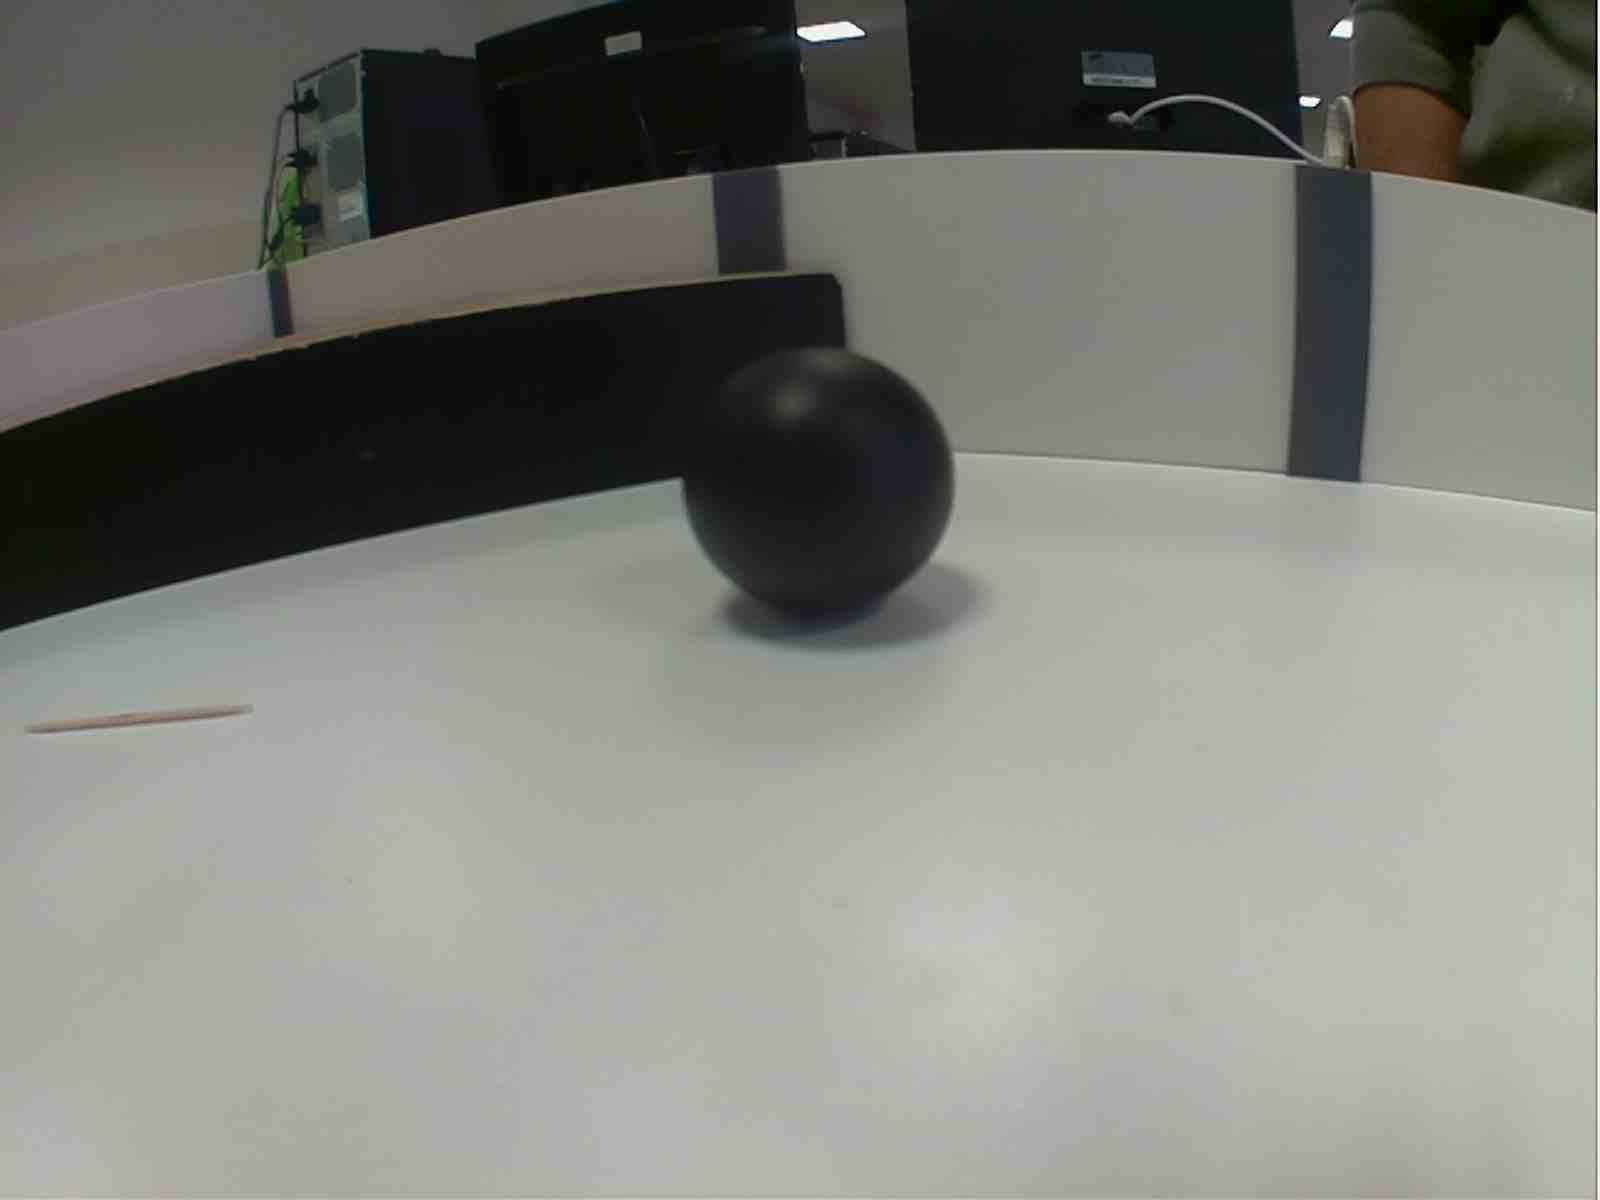nera: (677, 348, 961, 634)
